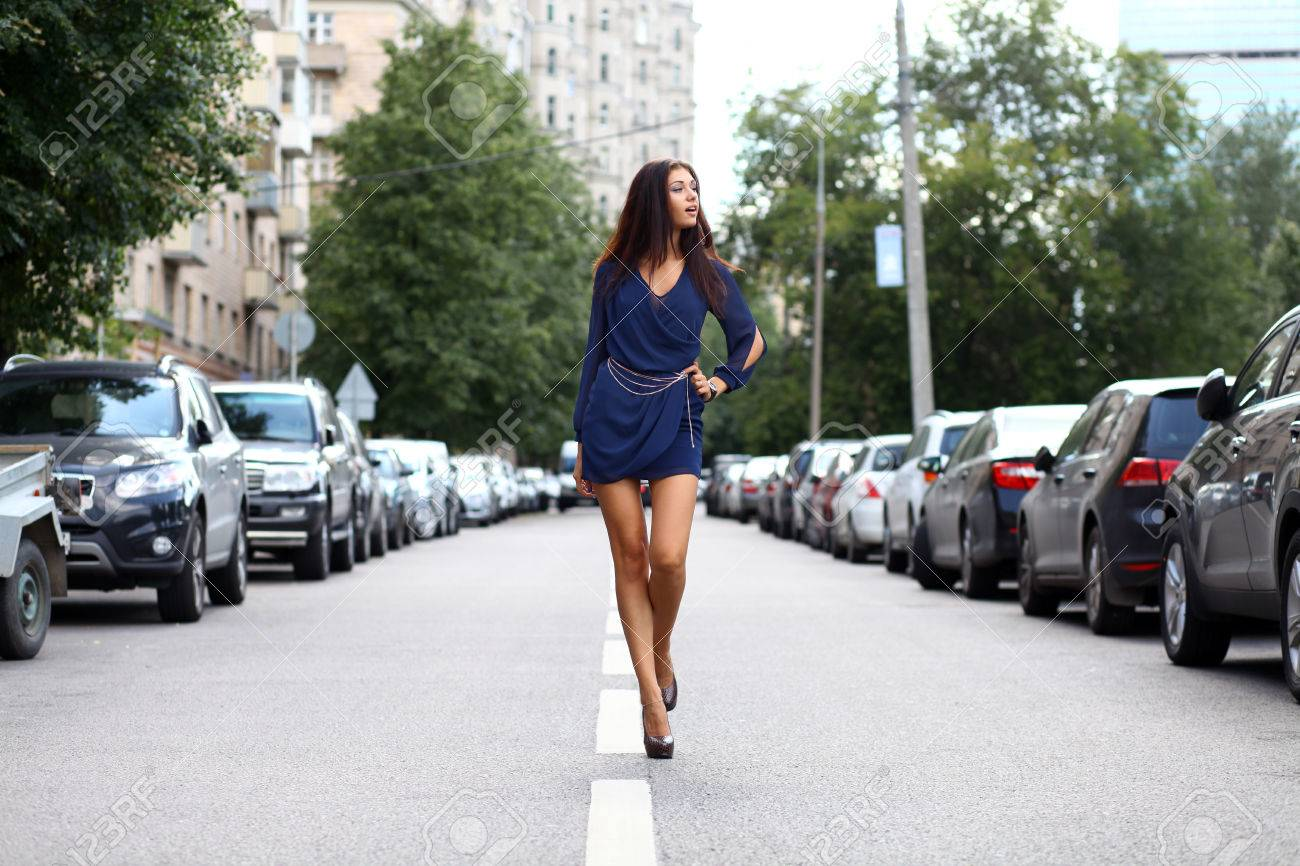car: (1, 349, 256, 639), (1012, 332, 1230, 627), (1166, 287, 1300, 706), (911, 360, 1090, 601), (205, 357, 367, 594)
person: (565, 149, 769, 766)
